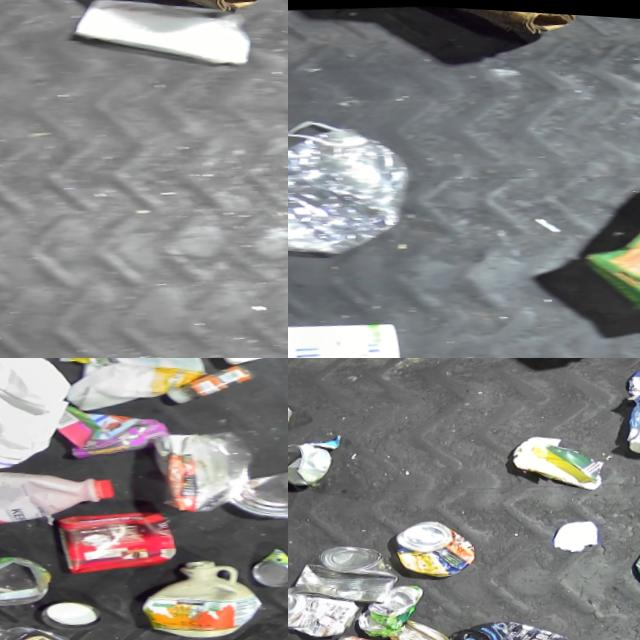can: (288, 536, 404, 610), (393, 512, 481, 579), (288, 578, 364, 640), (356, 578, 429, 637), (447, 608, 575, 640), (288, 437, 332, 487), (320, 623, 449, 640), (389, 611, 453, 640)
milk_jug: (53, 358, 216, 423), (0, 358, 83, 480)
non_white_jug: (122, 547, 280, 640), (54, 499, 196, 576)
plastic_bottle: (288, 106, 420, 267)
